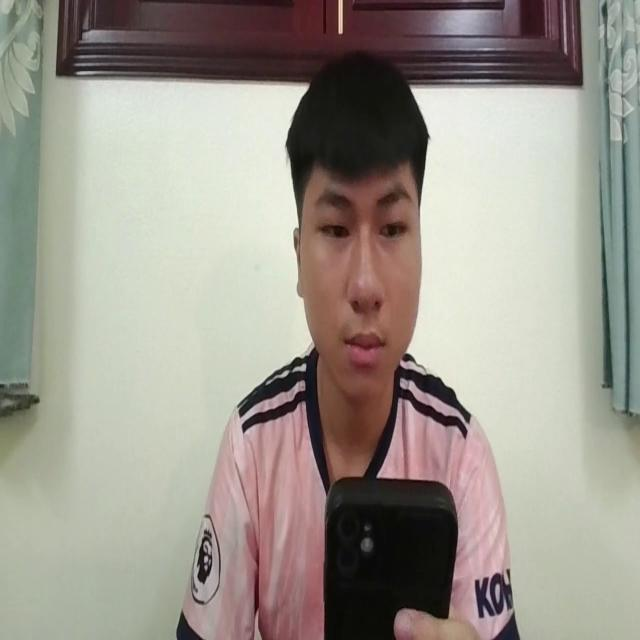phone: (319, 468, 456, 640)
student: (179, 57, 519, 640)
